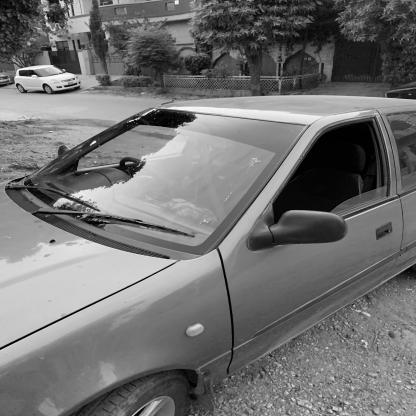seatbelt: (199, 132, 238, 211)
